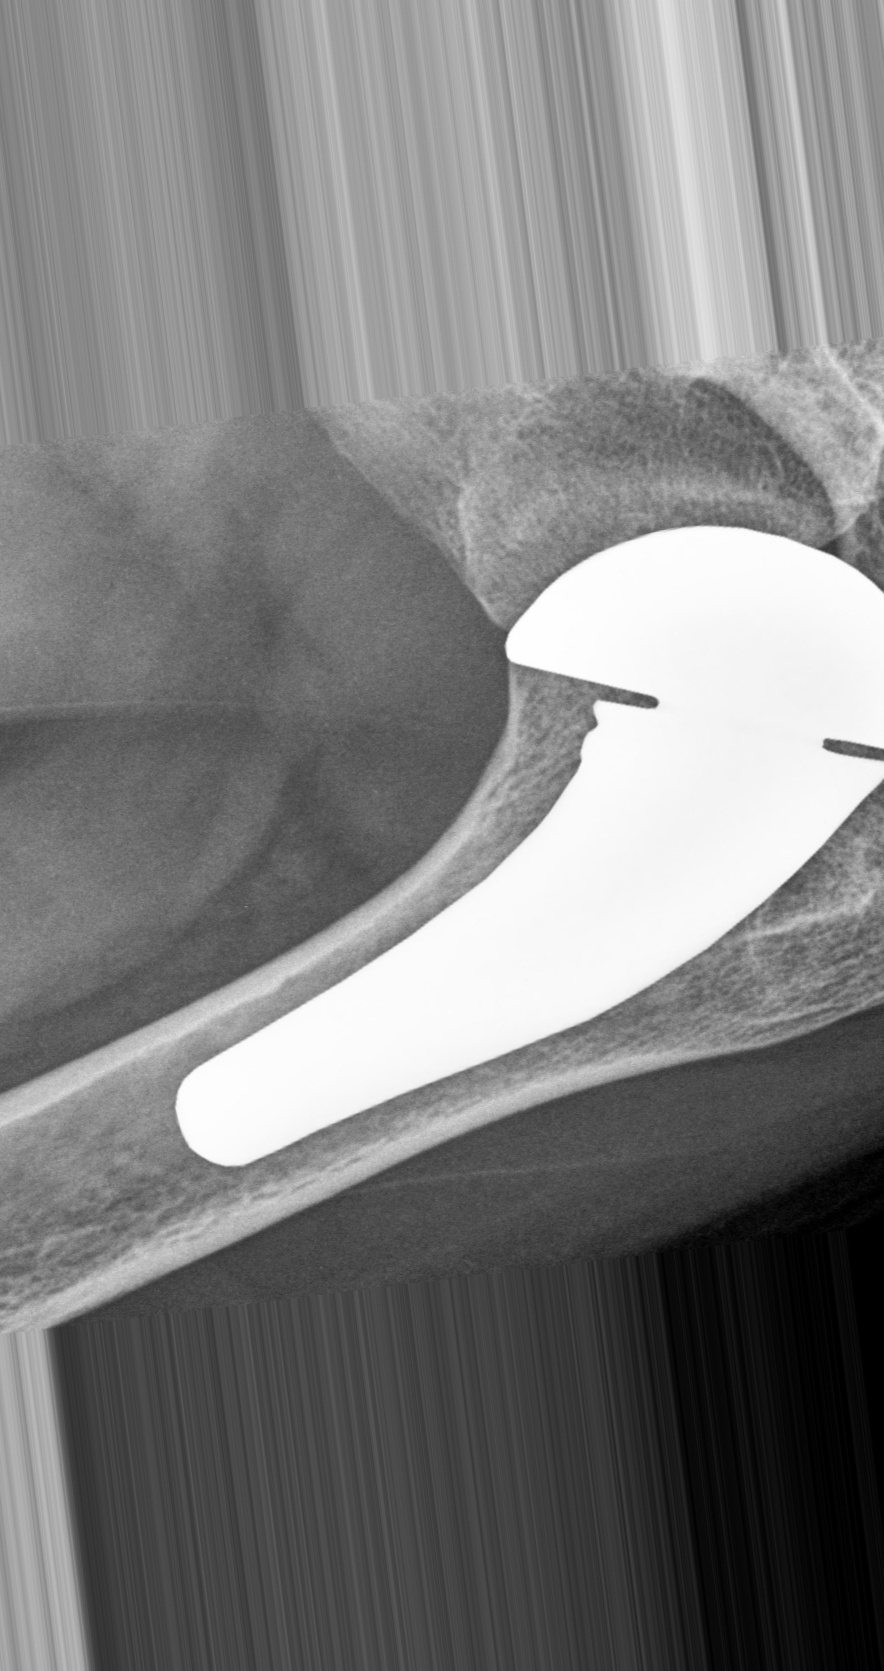Shoulder - AequalisAscendFlex - Tornier: (492, 522, 884, 788)
